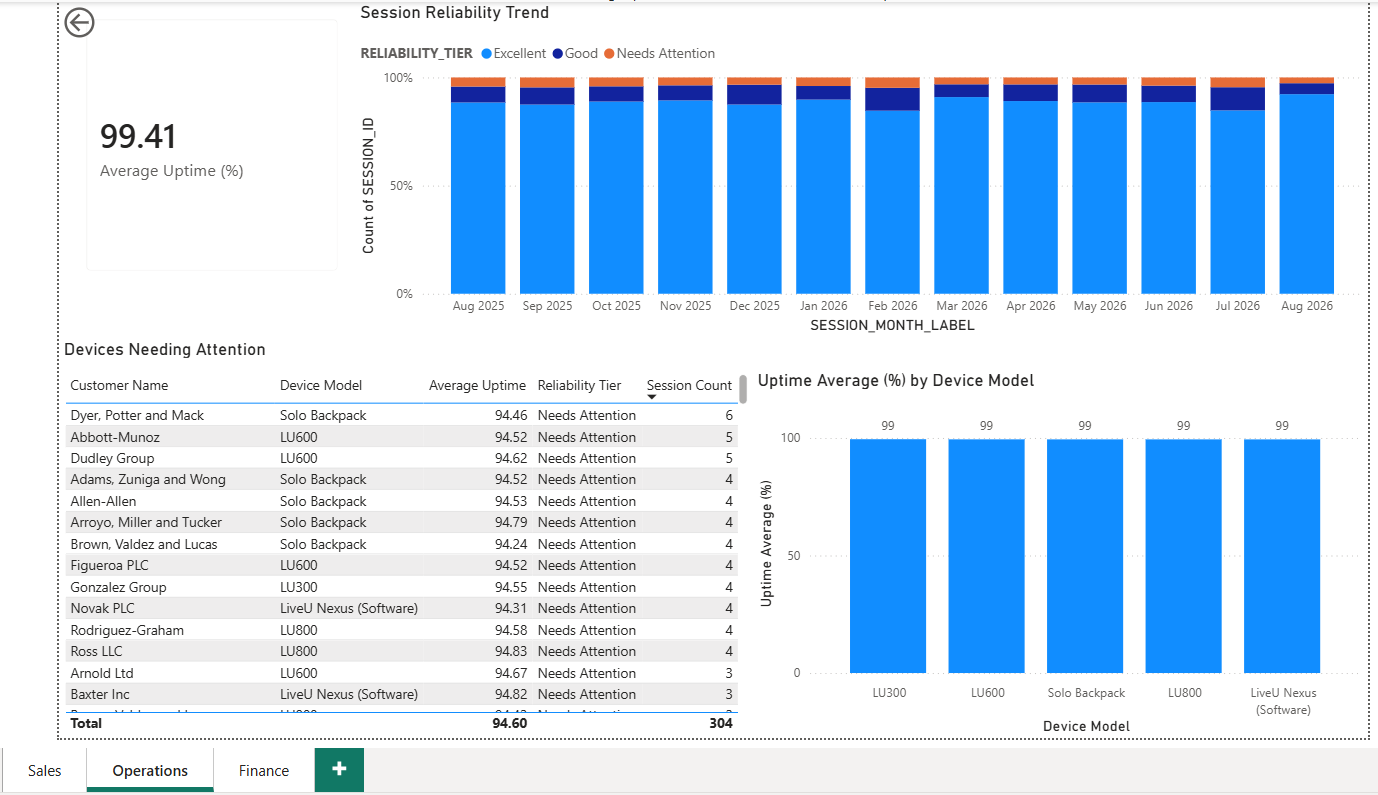

This screenshot's page, from the dashboard's own definition file:
{"tool":"powerbi","page":{"name":"Operations","canvas":[1280,720],"ordinal":1},"visuals":[{"type":"cardVisual","fields":{"Data":["Avg(FCT_STREAMING_SESSIONS.UPTIME_PCT)"]},"box":[10,0,280,280],"z":0},{"type":"clusteredColumnChart","fields":{"Category":["FCT_STREAMING_SESSIONS.DEVICE_MODEL"],"Y":["Avg(FCT_STREAMING_SESSIONS.UPTIME_PCT)"]},"box":[678.7,359,601.5,361.7],"z":1},{"type":"hundredPercentStackedColumnChart","title":"Session Reliability Trend","fields":{"Category":["FCT_STREAMING_SESSIONS.SESSION_MONTH_LABEL"],"Series":["FCT_STREAMING_SESSIONS.RELIABILITY_TIER"],"Y":["CountNonNull(FCT_STREAMING_SESSIONS.SESSION_ID)"]},"box":[289.8,0,990.5,328.9],"z":2},{"type":"tableEx","title":"Devices Needing Attention","fields":{"Values":["FCT_STREAMING_SESSIONS.CUSTOMER_NAME","FCT_STREAMING_SESSIONS.DEVICE_MODEL","Avg(FCT_STREAMING_SESSIONS.UPTIME_PCT)","FCT_STREAMING_SESSIONS.RELIABILITY_TIER","CountNonNull(FCT_STREAMING_SESSIONS.SESSION_ID)"]},"box":[0,329.2,678.7,391.5],"z":3},{"type":"actionButton","box":[0,0,100,40],"z":4}]}

Visuals, with their boxes on the page's 1280x720 design canvas (x1, y1, x2, y2). These are canvas units, not pixel positions in the 1378x795 screenshot, which may show the page scaled, cropped or inside an application window:
cardVisual - Avg(FCT_STREAMING_SESSIONS.UPTIME_PCT): region(10, 0, 290, 280)
clusteredColumnChart - FCT_STREAMING_SESSIONS.DEVICE_MODEL x Avg(FCT_STREAMING_SESSIONS.UPTIME_PCT): region(679, 359, 1280, 721)
"Session Reliability Trend" hundredPercentStackedColumnChart: region(290, 0, 1280, 329)
"Devices Needing Attention" tableEx: region(0, 329, 679, 721)
actionButton: region(0, 0, 100, 40)
